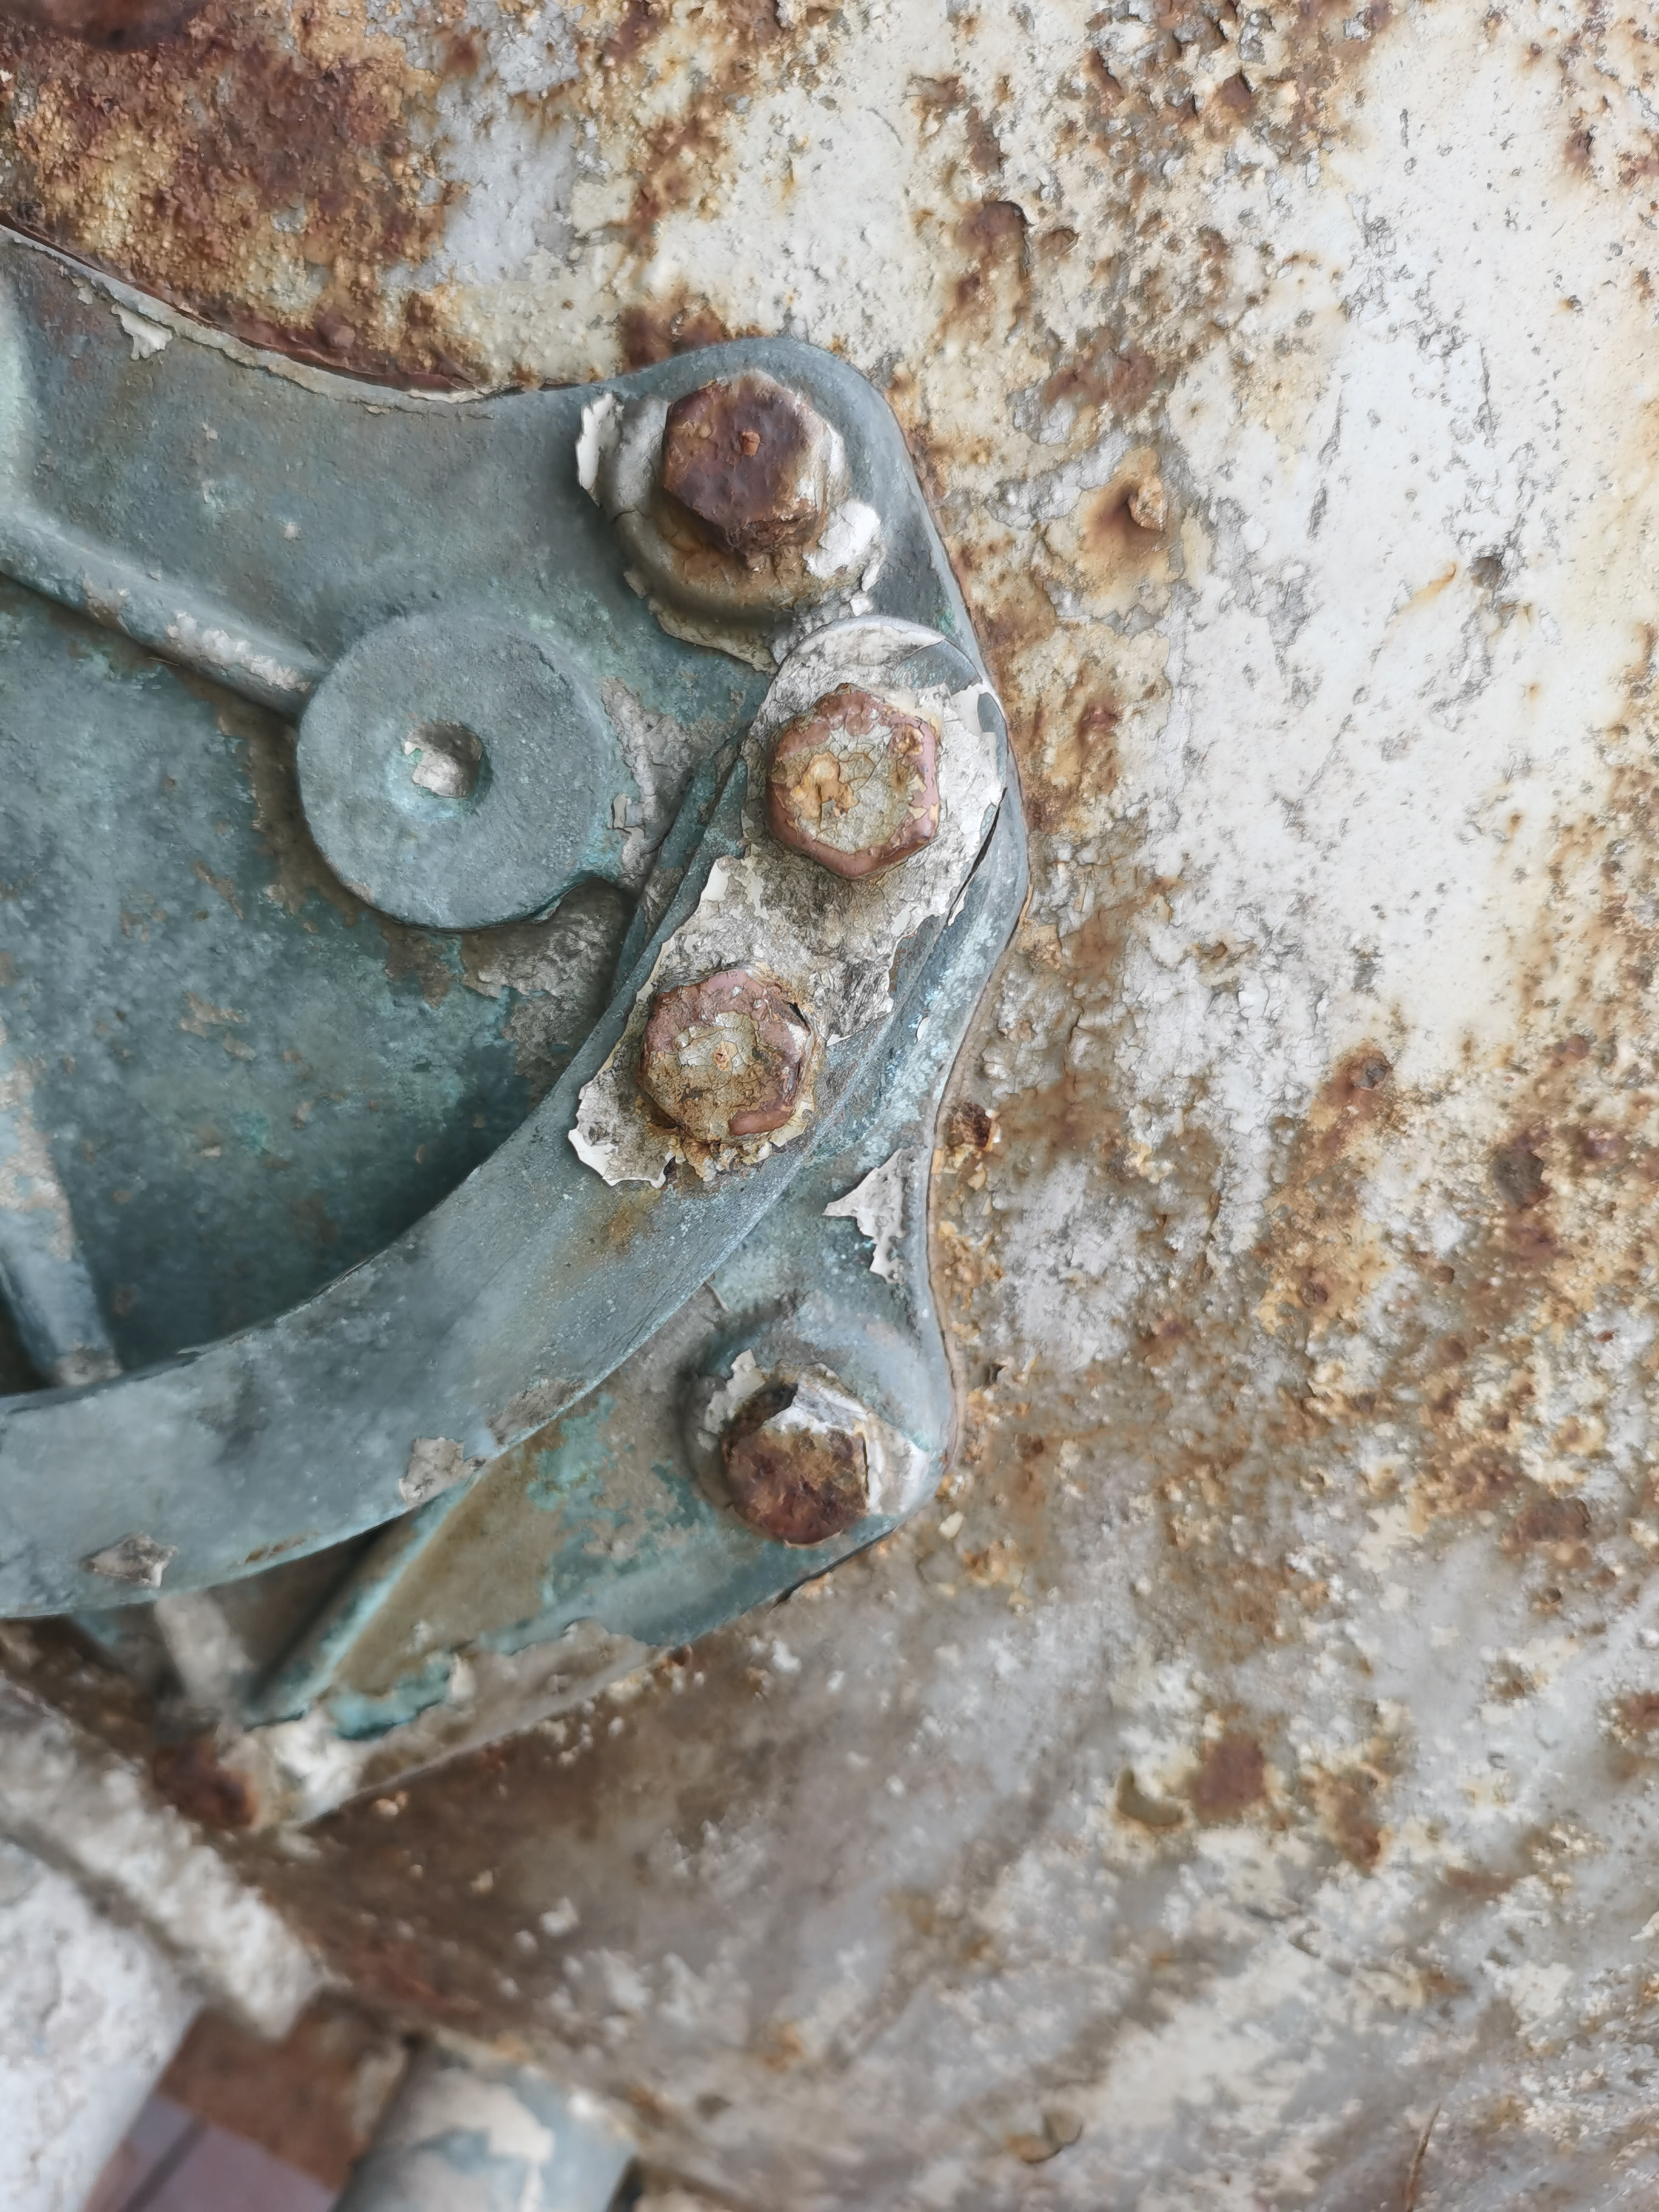bolt_a: (749, 671, 958, 892), (641, 368, 856, 563), (627, 956, 828, 1160), (702, 1371, 889, 1555)
